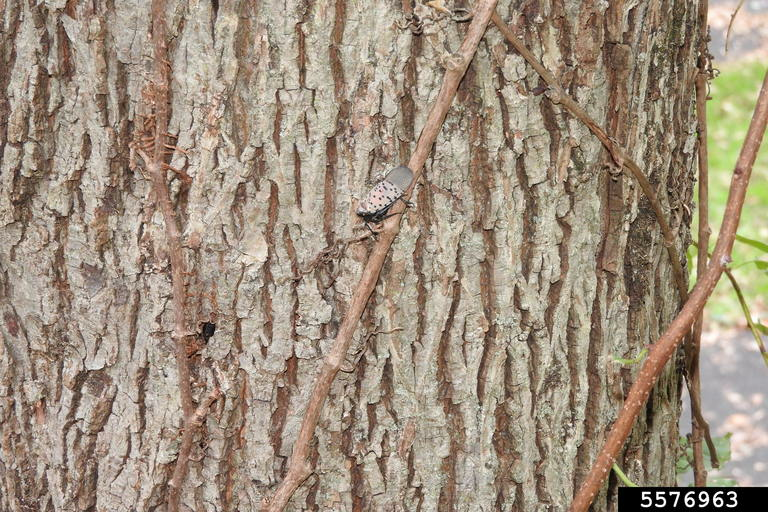adult: (352, 166, 425, 218)
